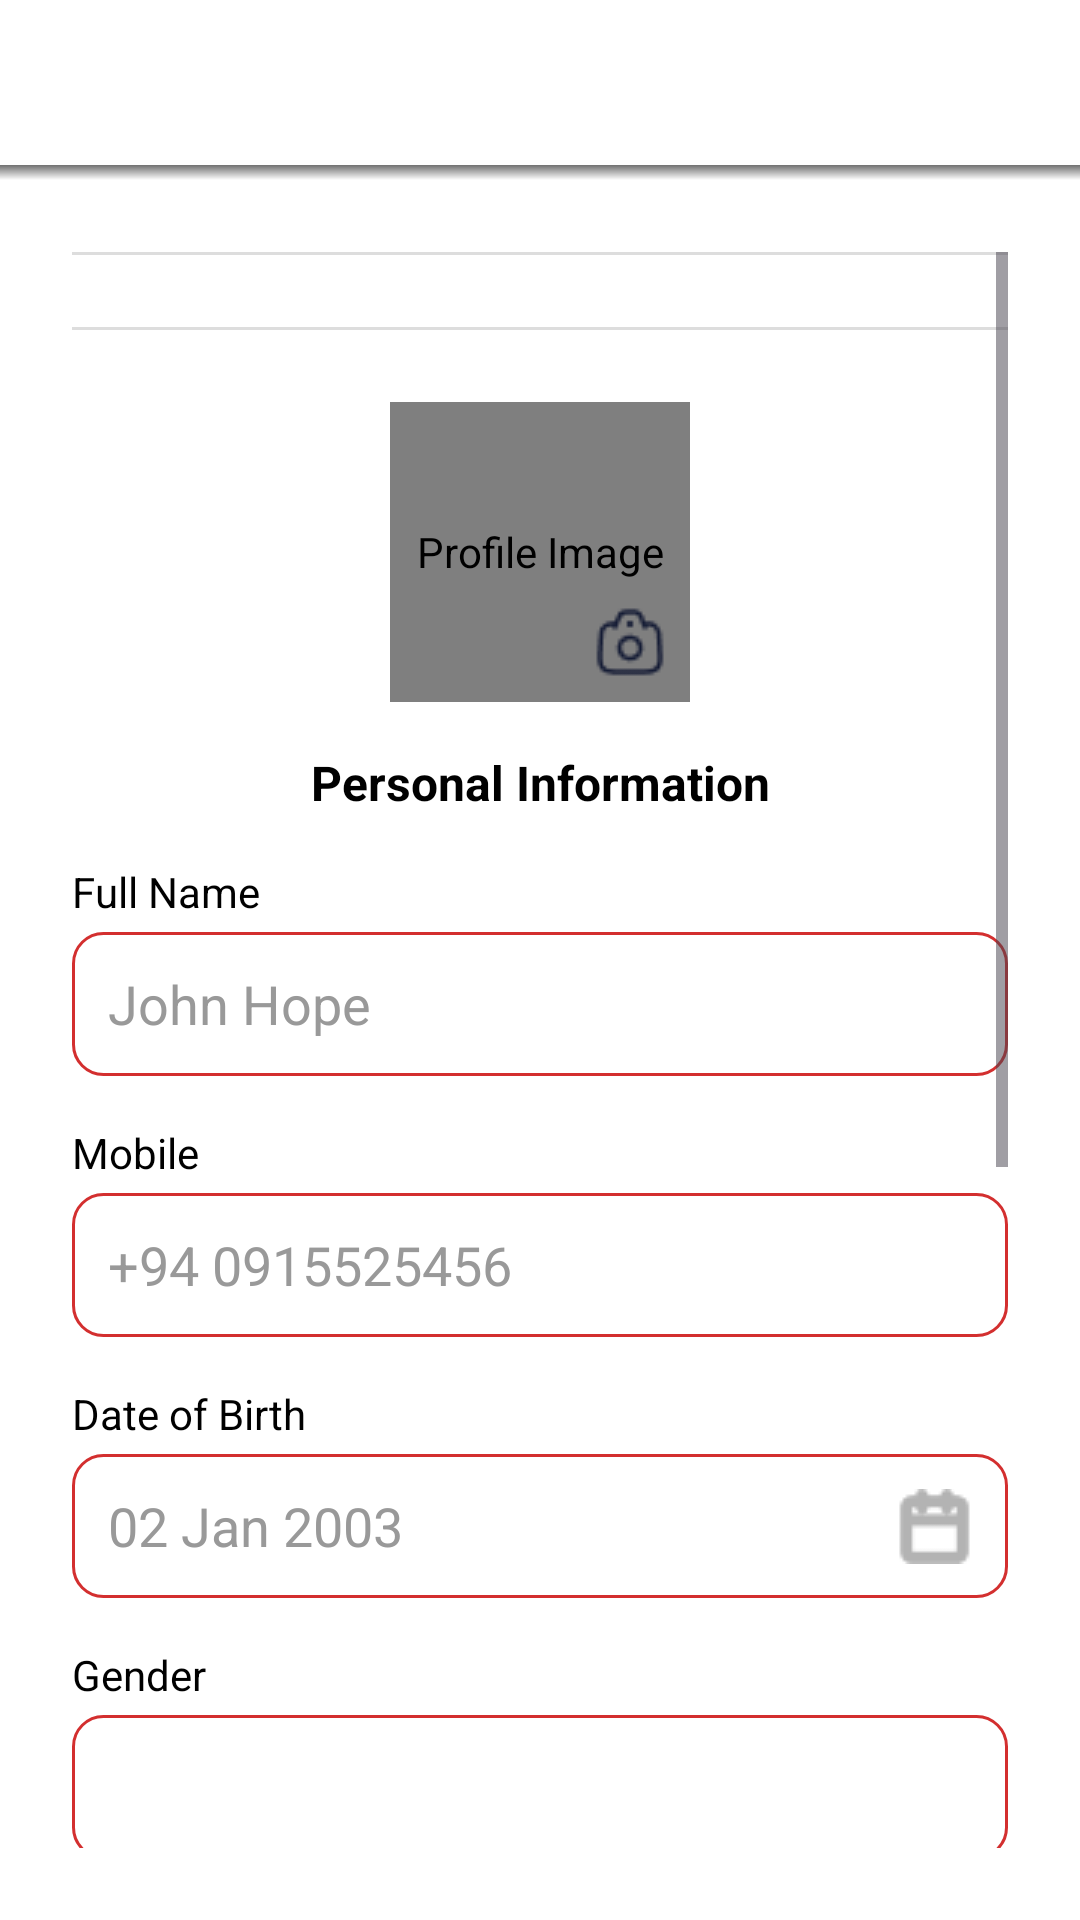

Where to tap for icons on this 1080 × 1920 app screen, as [x,y]:
Camera Icon: [630,642]
